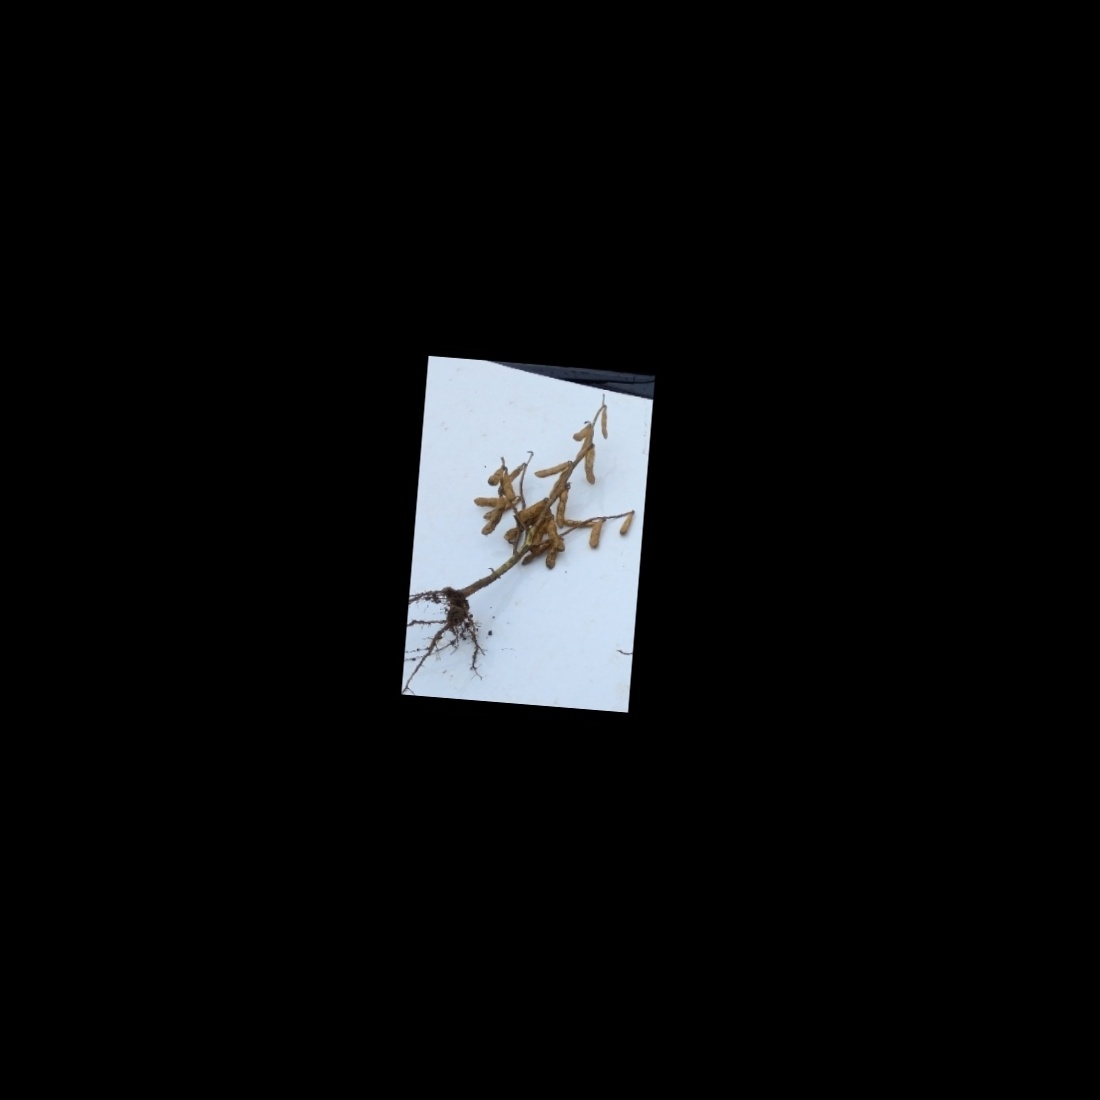pod: (533, 454, 571, 480), (587, 519, 606, 554), (582, 447, 598, 487), (555, 488, 569, 530), (484, 463, 503, 490), (599, 406, 613, 441), (616, 512, 633, 542), (570, 418, 590, 442)
soy: (410, 379, 648, 667)
